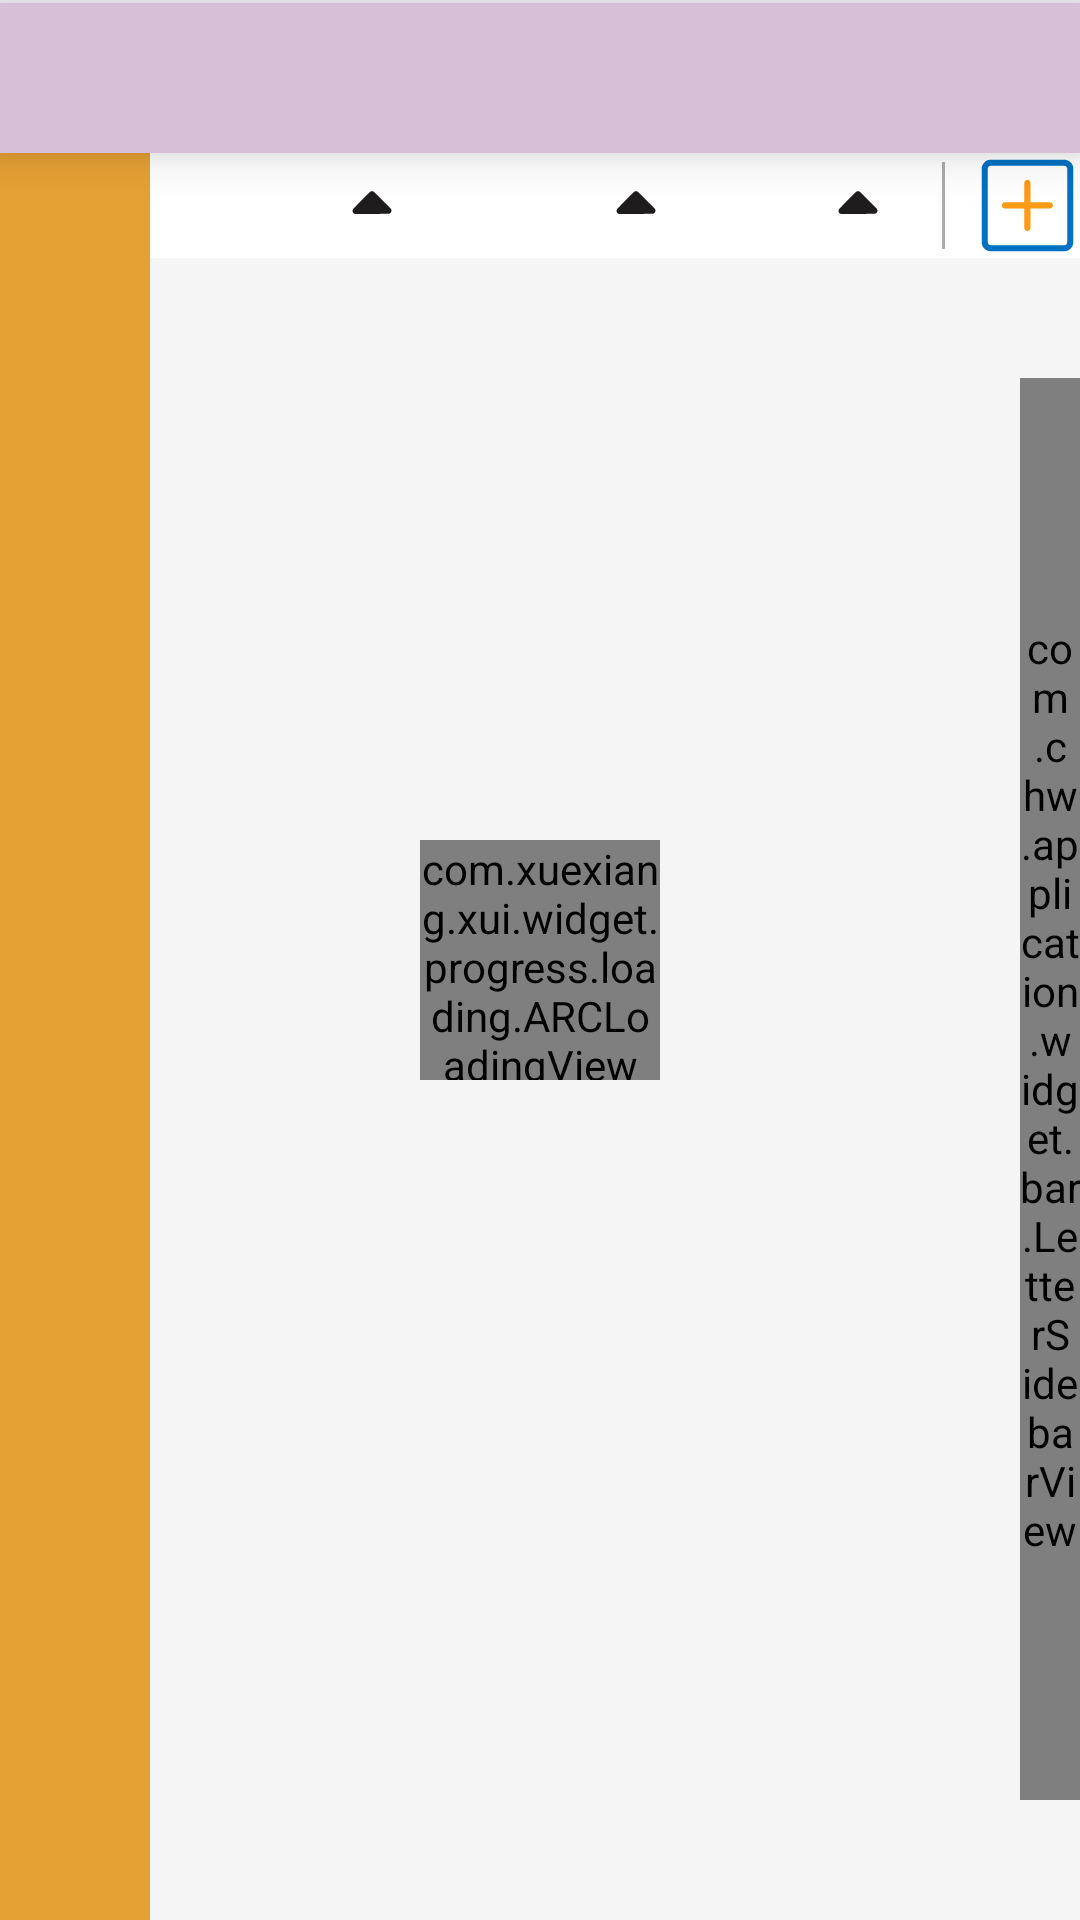

Icon bounding boxes for this 1080×1920 phone screenshot, format Rect(x1, y1, x2, y2):
add character: Rect(975, 153, 1080, 258)
